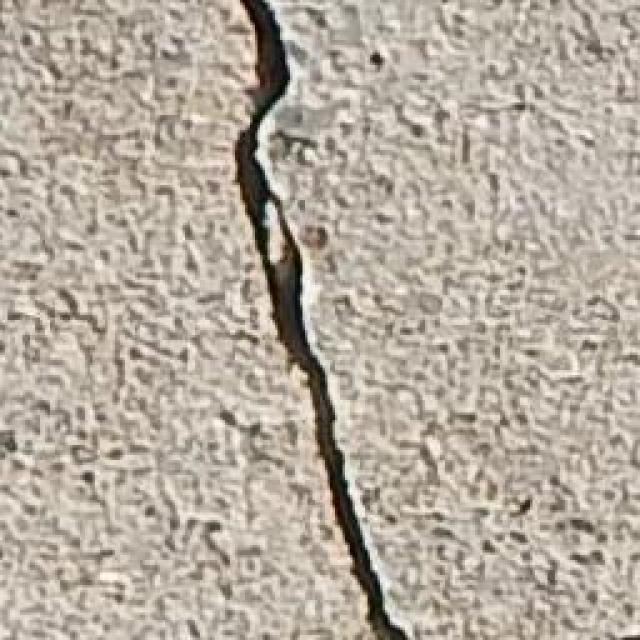concrete-crack: (218, 0, 411, 640)
